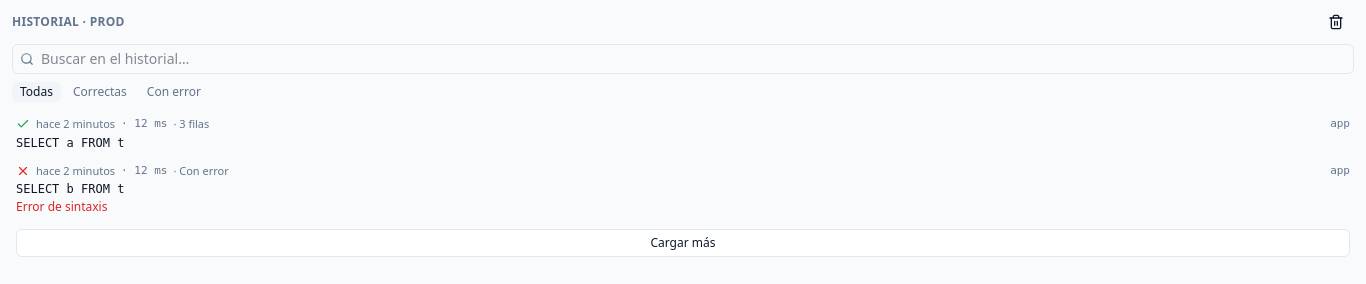
Test: HistoryPanel › 'Cargar más' pide la página siguiente con el cursor
Click the button "Cargar más" at (683, 243), box [16,229,1350,257]
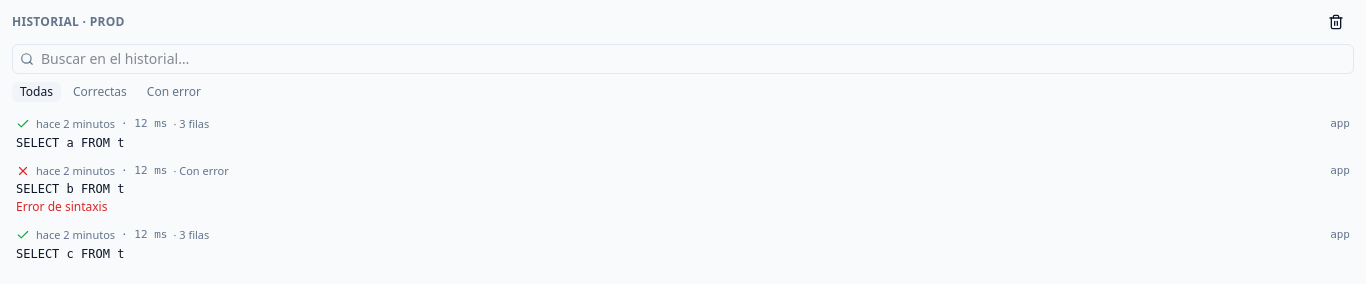
Expected: the number of list items with test id "history-item" is 3, [8,110,1358,156]; [8,156,1358,221]; [8,221,1358,268]
